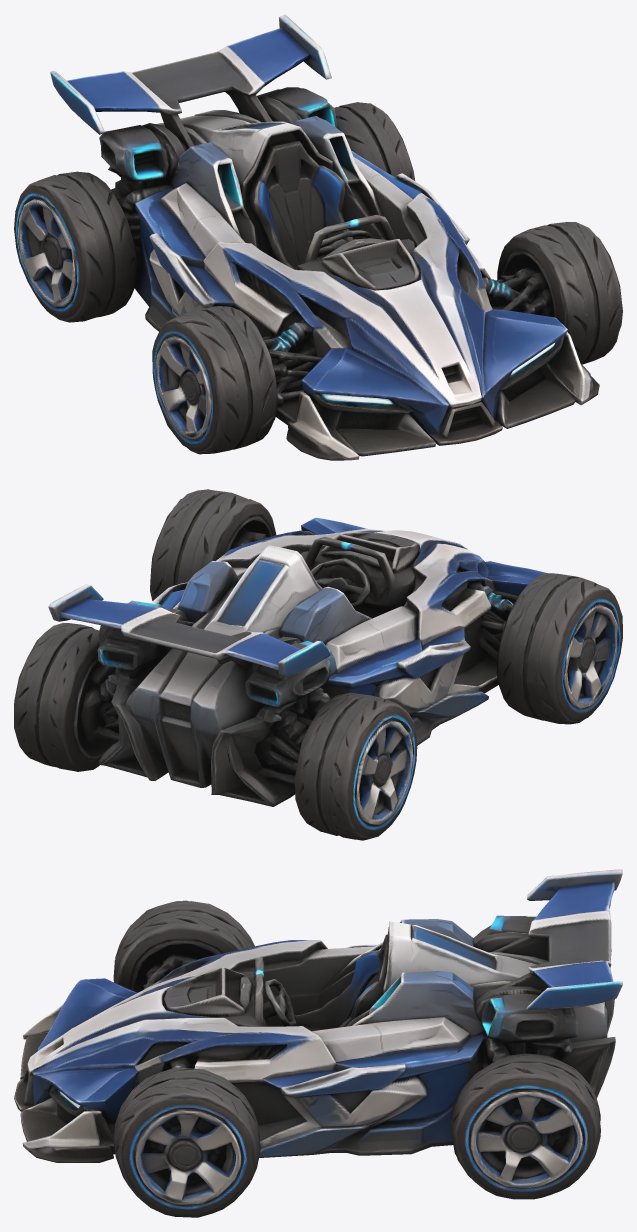
The model's file is 02-cobalt-manta-shaded.glb.
3 renders of one model, top to bottom at view 1: azimuth 30°, elevation 25°; view 2: azimuth 150°, elevation 25°; view 3: azimuth 270°, elevation 25°, orthographic.
Parts seen in each view (by area): view 1: model; view 2: model; view 3: model.
Part boxes in pixels (x1,y1,x2,y2): model: [14, 14, 622, 460]; model: [14, 489, 622, 840]; model: [14, 869, 622, 1217].
Size of the model in its own units: 1.46 by 0.6852 by 1.89.
1 material, 1 textured.
